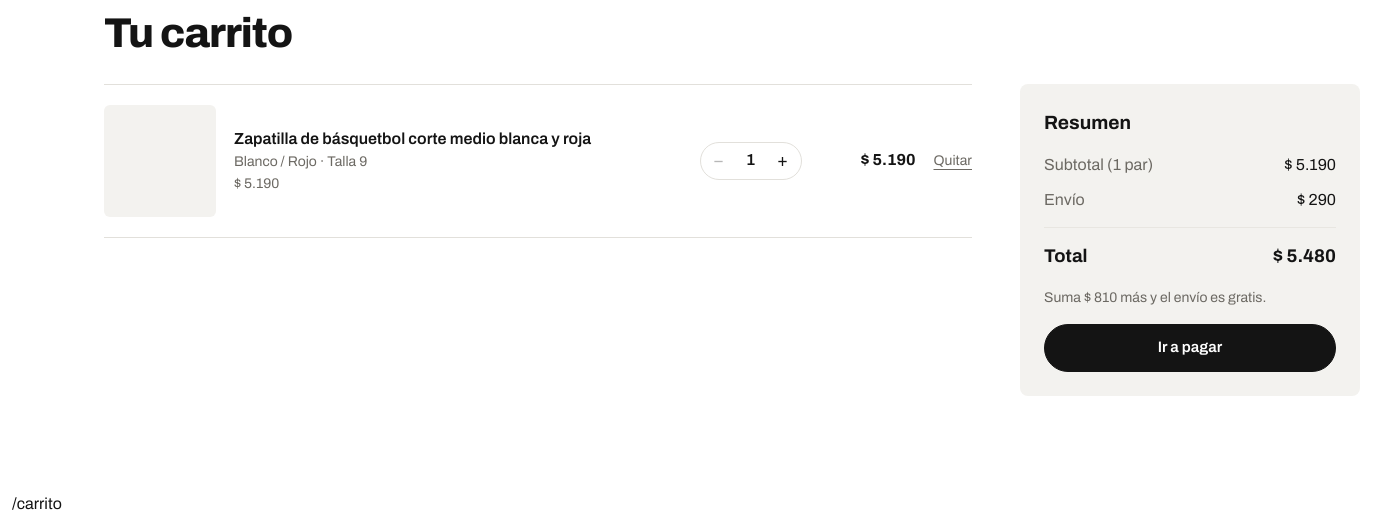
it: carrito › cambiar la cantidad usa la respuesta del backend
Click the button named "Agregar una unidad" at (782, 161), box [764,143,800,179]
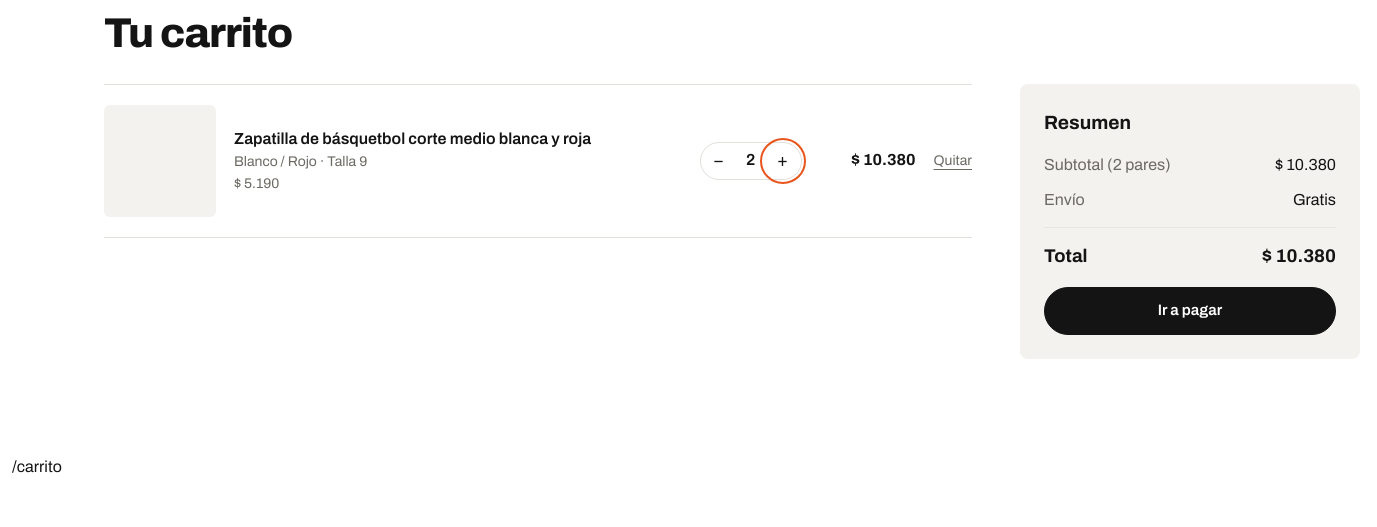
Result: the text "Gratis" is shown at [1293,188,1336,213]
